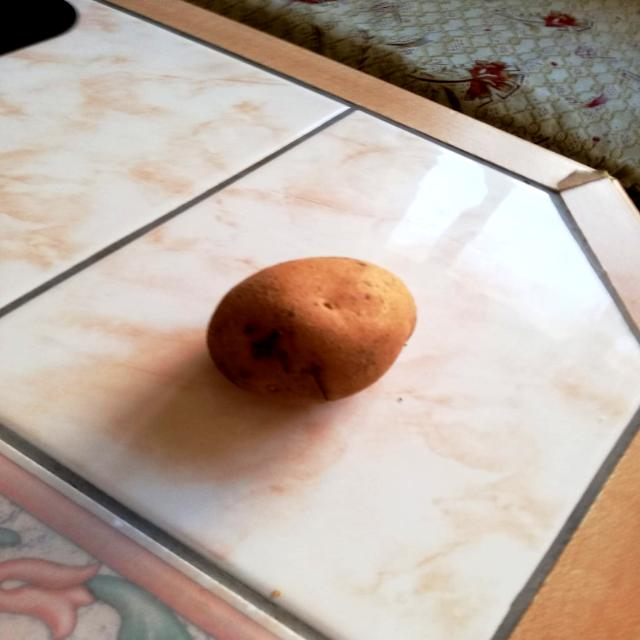potato: (205, 252, 421, 407)
